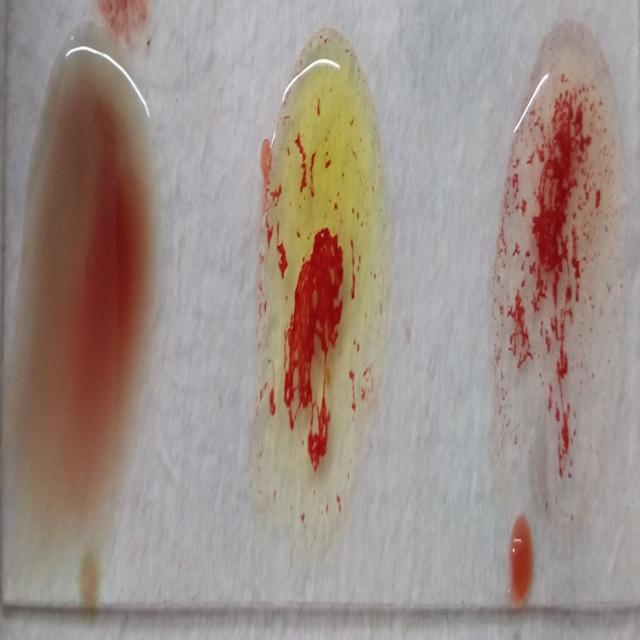B: (261, 34, 382, 554)
D: (499, 34, 626, 574)
